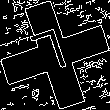L_S: (32, 26, 78, 84)
